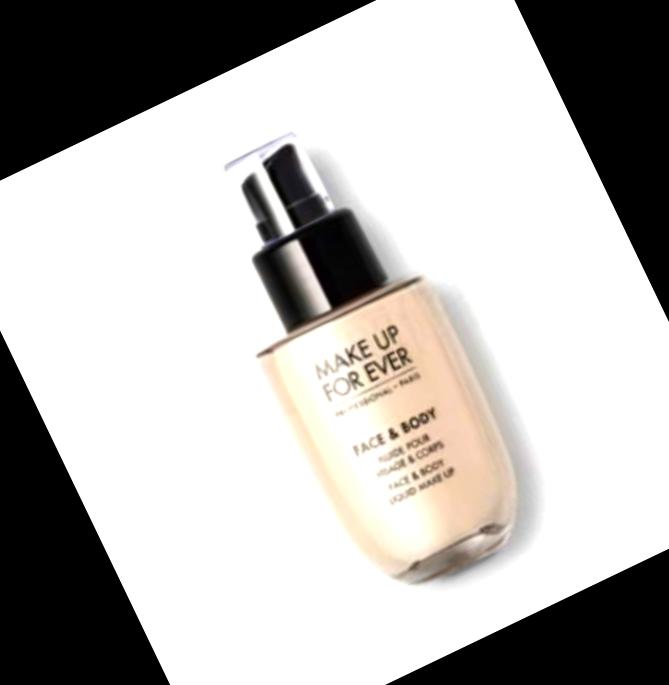cosmetic: (172, 102, 551, 612)
